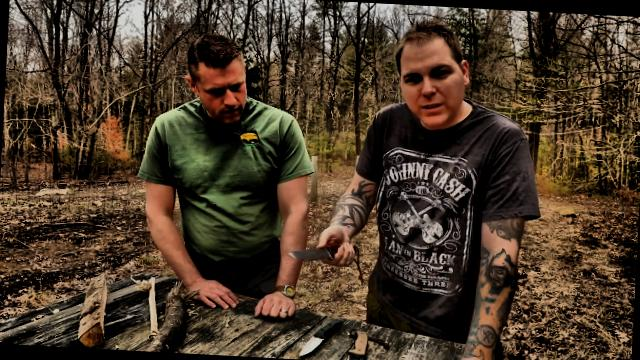knife: (278, 229, 362, 270)
